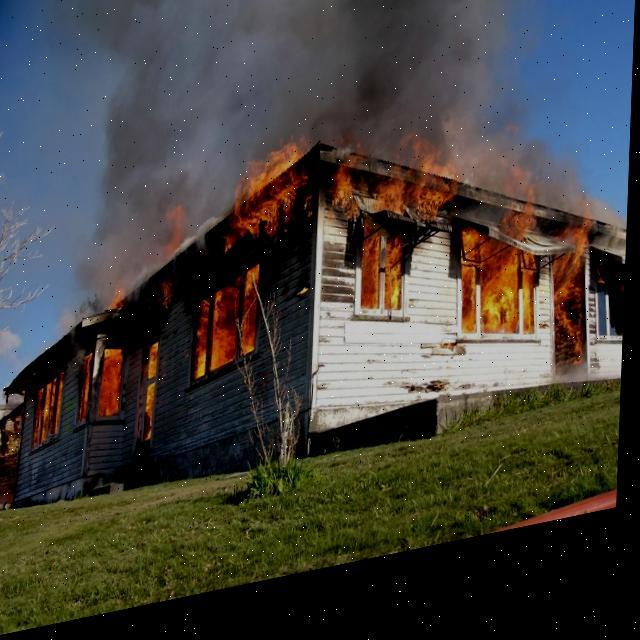Fire: (7, 69, 614, 512)
